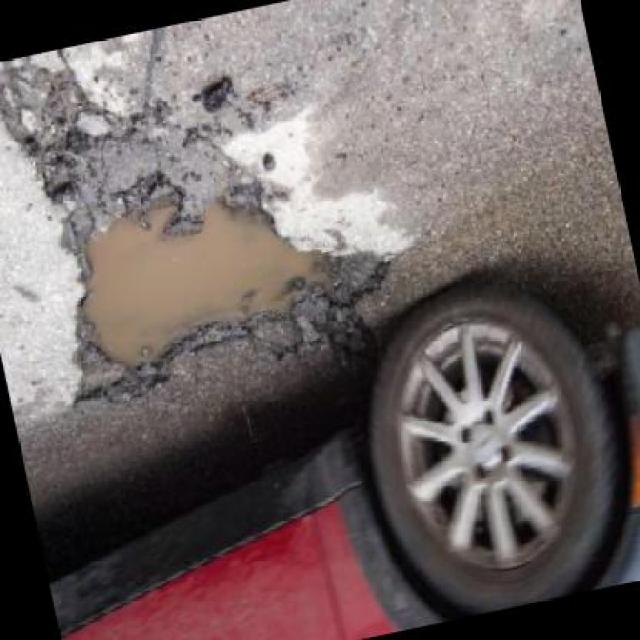pothole1: (31, 151, 409, 418)
